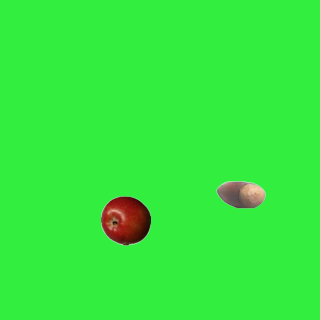Apple Braeburn: (100, 195, 150, 245)
Hazelnut: (215, 169, 265, 219)
